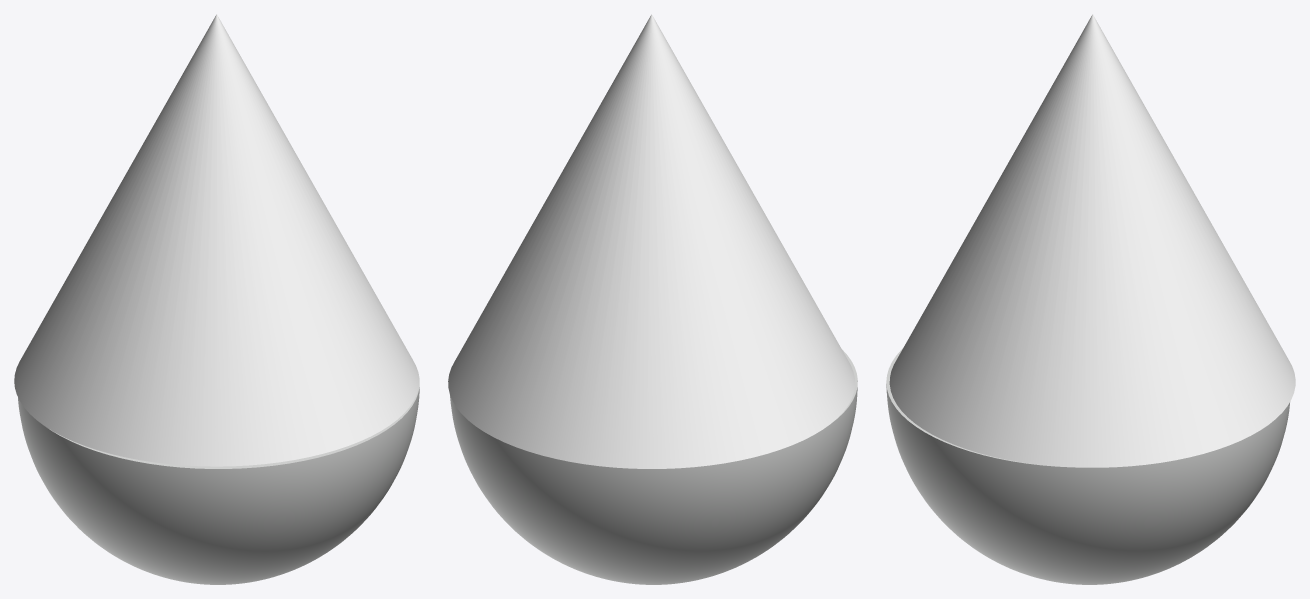
File: капля.fbx
3 renders of one model, left to right at view 1: azimuth 30°, elevation 25°; view 2: azimuth 150°, elevation 25°; view 3: azimuth 270°, elevation 25°, orthographic.
Visible parts, largest first — view 1: root (×2); view 2: root (×2); view 3: root (×2).
Boxes of the visible parts, x1=… form: root (×2): x1=14, y1=14, x2=419, y2=584; root (×2): x1=448, y1=14, x2=857, y2=584; root (×2): x1=886, y1=14, x2=1295, y2=584.
Bounding box in the file's own units: 0.1999 × 0.2999 × 0.2016.
Materials: 2 (2 with a texture image).
